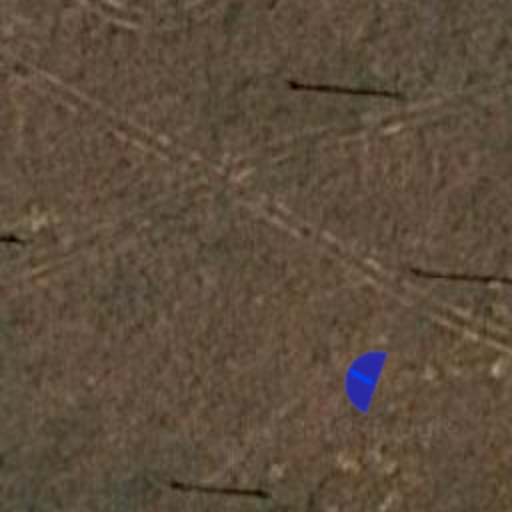semicircle: (320, 336, 404, 420)
